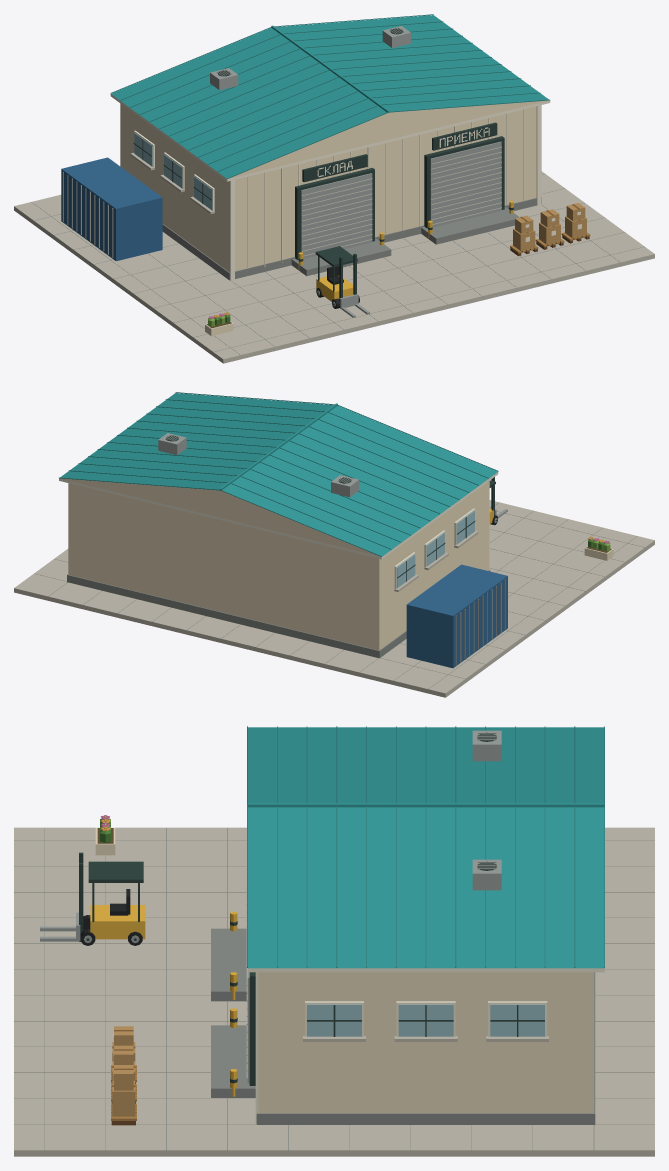
File: 06_Warehouse.obj
3 views of the same model, one above another, from view 1: azimuth 30°, elevation 25°; view 2: azimuth 150°, elevation 25°; view 3: azimuth 270°, elevation 25° (orthographic). The views are drawn at different scales.
Parts seen in each view (by area): view 1: 06_Warehouse; view 2: 06_Warehouse; view 3: 06_Warehouse.
Part boxes in pixels (x1,y1,x2,y2): 06_Warehouse: [14, 14, 654, 363]; 06_Warehouse: [14, 392, 654, 697]; 06_Warehouse: [14, 726, 654, 1156].
Size of the model in its own units: 25 by 7.74 by 21.
1 material, 1 textured.
